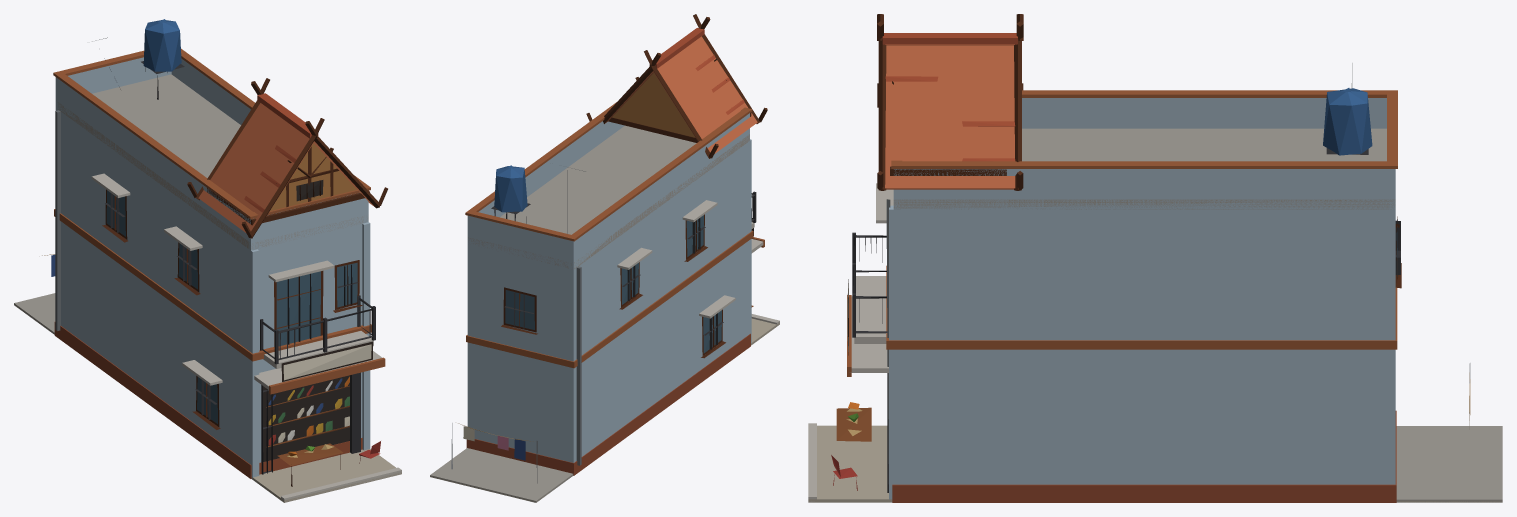
Rendered from bay1_left.glb.
The picture shows the model from 3 angles, left to right: view 1: azimuth 30°, elevation 25°; view 2: azimuth 150°, elevation 25°; view 3: azimuth 270°, elevation 25°; orthographic projection. The views are drawn at different scales.
Visible parts, largest first — view 1: body, windows; view 2: body, windows; view 3: body.
Boxes of the visible parts, x1,y1,x2,y2 form: body: (14, 19, 401, 502); windows: (106, 180, 357, 461); body: (430, 14, 779, 502); windows: (505, 215, 721, 353); body: (808, 14, 1502, 502).
Bounding box in the file's own units: 4.98 × 11.33 × 15.9.
